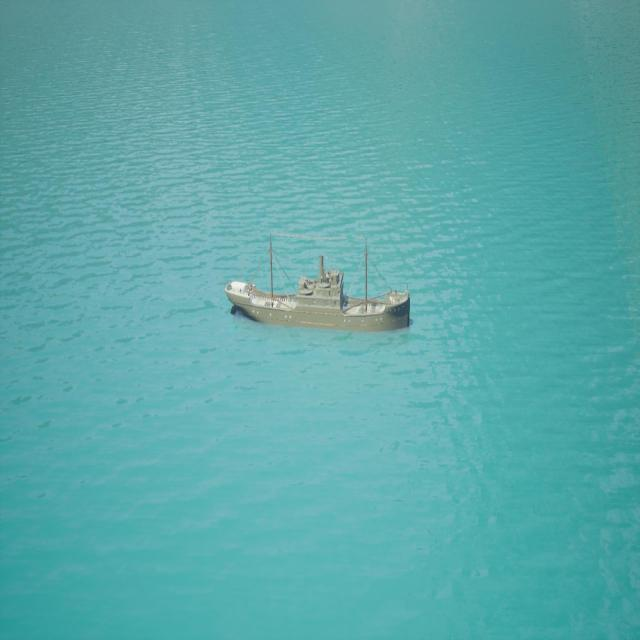fishing ship: (225, 238, 412, 334)
